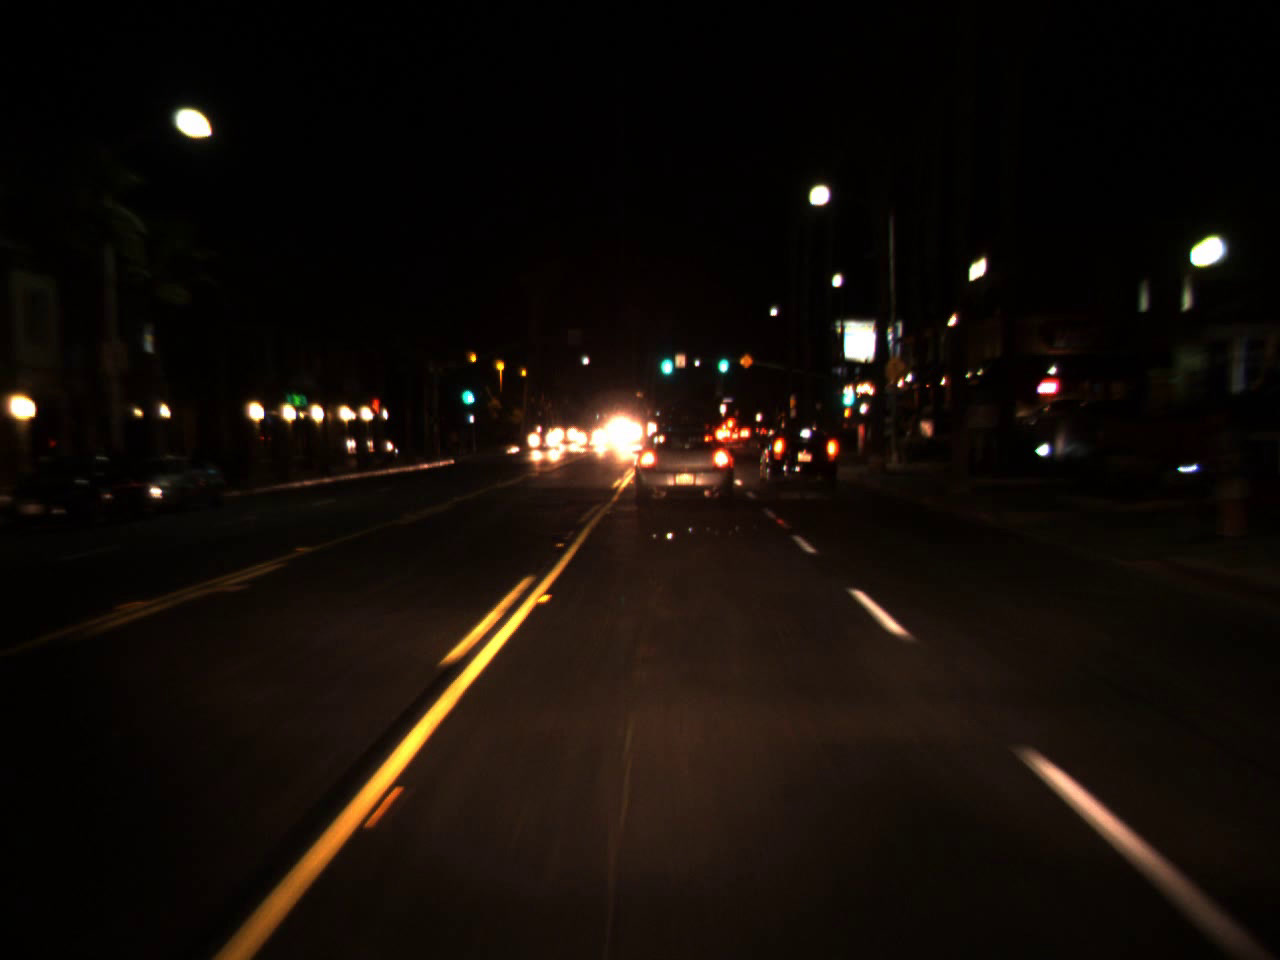go: (834, 373, 857, 412), (657, 339, 675, 381), (459, 371, 473, 410), (716, 347, 728, 377)
